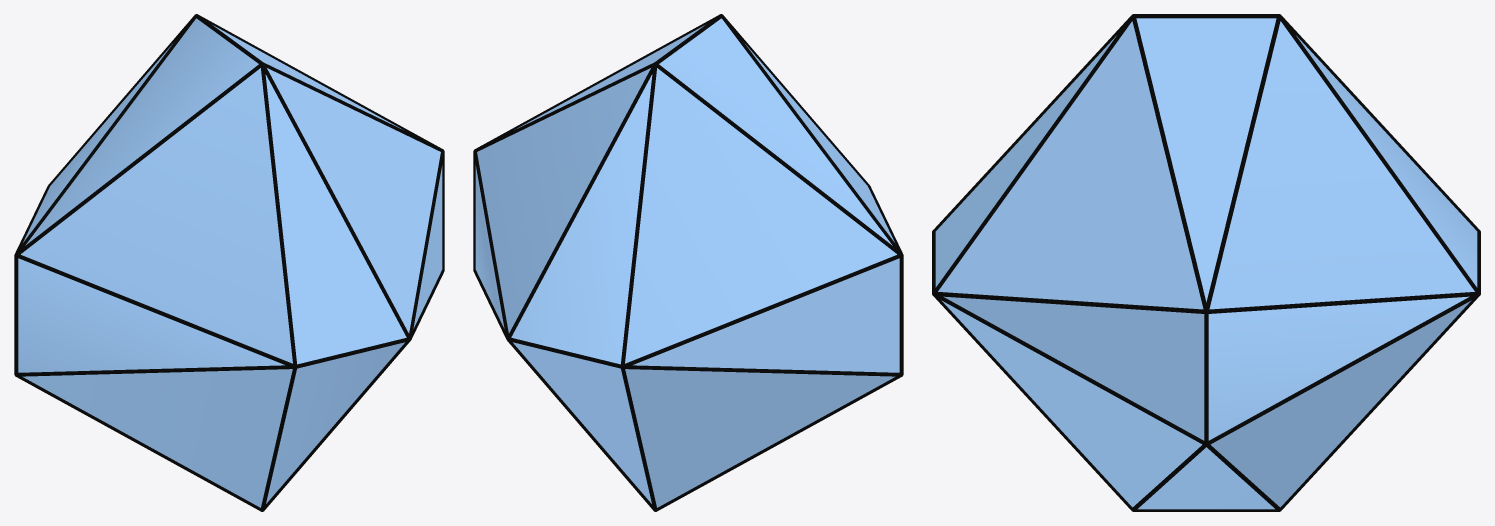
Rendered from hydratohedron.glb.
The picture shows the model from 3 angles, left to right: view 1: azimuth 30°, elevation 25°; view 2: azimuth 150°, elevation 25°; view 3: azimuth 270°, elevation 25°; orthographic projection. The views are drawn at different scales.
Parts seen in each view (by area): view 1: im_5293f2ff, im_edge_cylinder (×15); view 2: im_5293f2ff, im_edge_cylinder (×15); view 3: im_5293f2ff, im_edge_cylinder (×14).
Part boxes in pixels (<box>): im_5293f2ff: <box>18,18,442,507</box>; im_edge_cylinder (×15): <box>14,14,444,511</box>; im_5293f2ff: <box>475,18,899,507</box>; im_edge_cylinder (×15): <box>473,14,903,511</box>; im_5293f2ff: <box>935,18,1477,509</box>; im_edge_cylinder (×14): <box>932,14,1480,510</box>.
Size of the model in its own units: 1.95 by 1.95 by 1.95.
